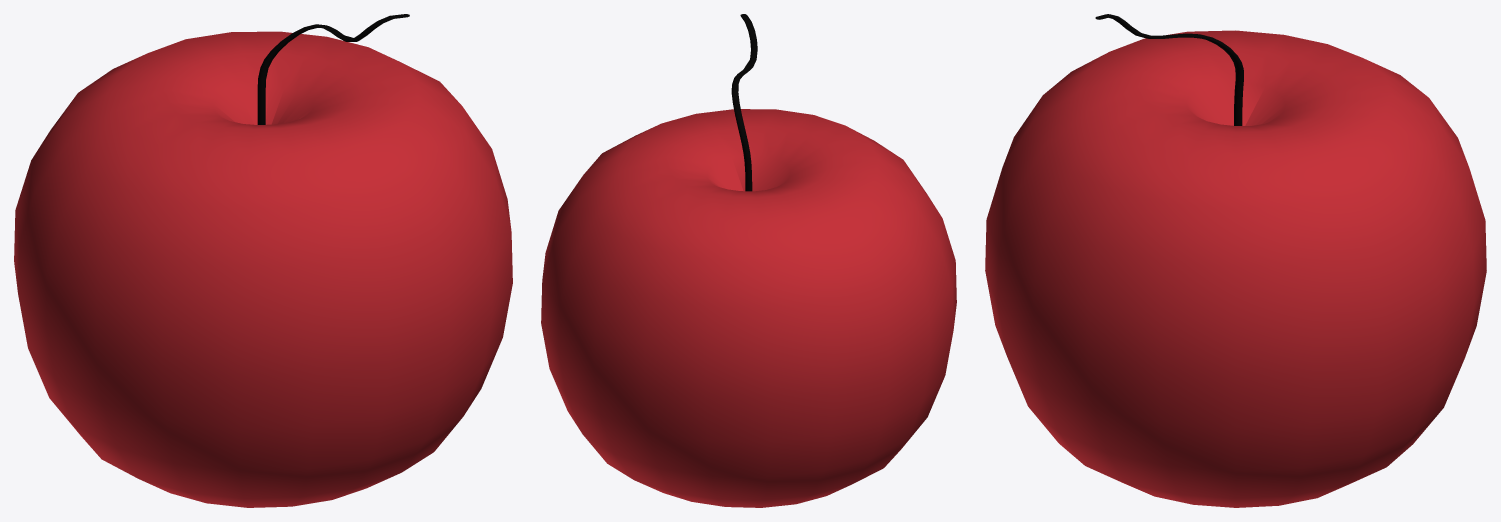
File: bomba.fbx
3 views of the same model, side by side, from view 1: azimuth 30°, elevation 25°; view 2: azimuth 150°, elevation 25°; view 3: azimuth 270°, elevation 25° (orthographic). The views are drawn at different scales.
Parts seen in each view (by area): view 1: nurbsToPoly2, nurbsToPoly1; view 2: nurbsToPoly2, nurbsToPoly1; view 3: nurbsToPoly2, nurbsToPoly1.
Part boxes in pixels (x1,y1,x2,y2): nurbsToPoly2: (14,31,512,507); nurbsToPoly1: (257,14,409,124); nurbsToPoly2: (541,109,956,507); nurbsToPoly1: (731,14,757,191); nurbsToPoly2: (985,30,1486,507); nurbsToPoly1: (1095,14,1243,125).
Bounding box in the file's own units: 5.28 × 5.59 × 5.26.
